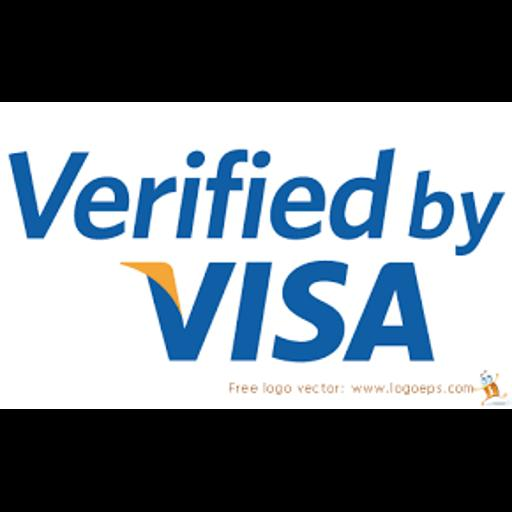Visa International Service Association: (0, 102, 512, 409)
